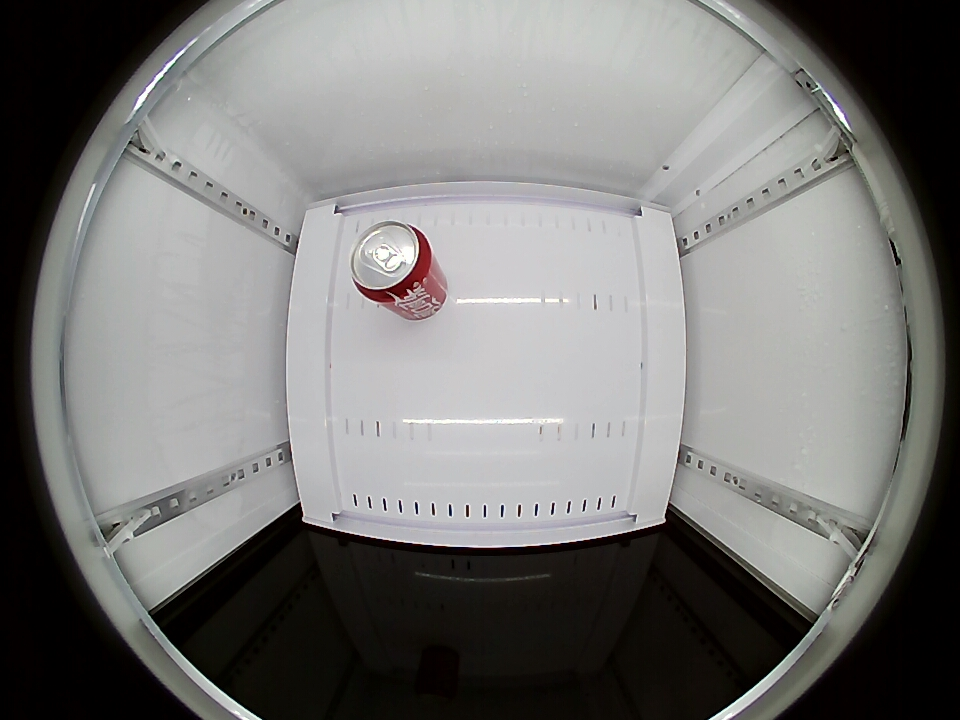kele: (349, 220, 434, 306)
